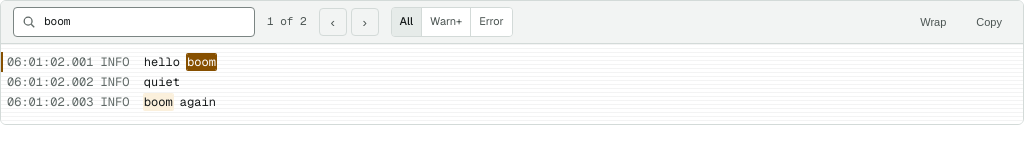
Test case: LogViewer › shows a match count and n/N navigation once a query is committed
The width and height of the screenshot is (1024, 160).
Expected: the text "1 of 2" is shown, [267, 14, 307, 30]
Step 1. Click the button named "Next match" → point(365, 22), box [351, 8, 379, 36]
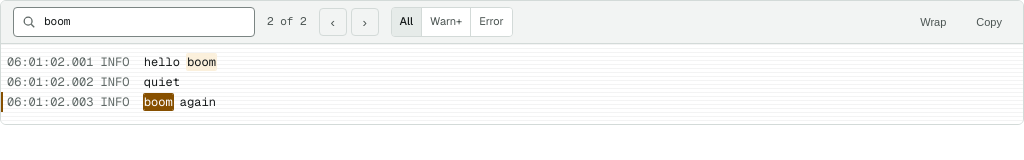
Now the text "2 of 2" is shown, box [267, 14, 307, 30]
Step 2. Click the button named "Next match" → point(365, 22), box [351, 8, 379, 36]
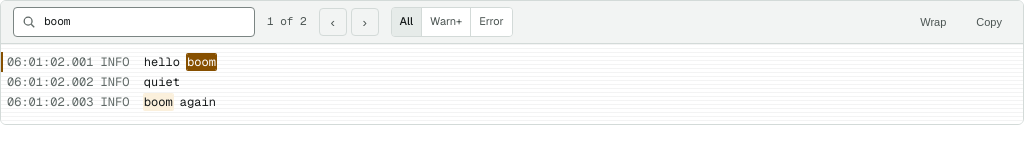
Now the text "1 of 2" is shown, box [267, 14, 307, 30]
Step 3. Click the button named "Previous match" → point(333, 22), box [319, 8, 347, 36]
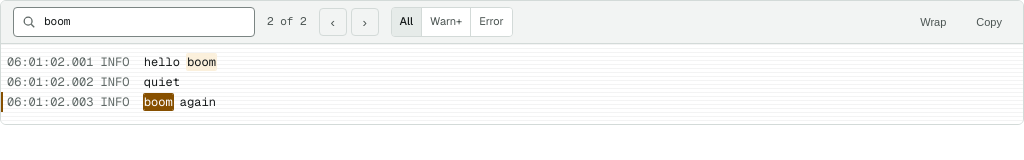
Now the text "2 of 2" is shown, box [267, 14, 307, 30]
